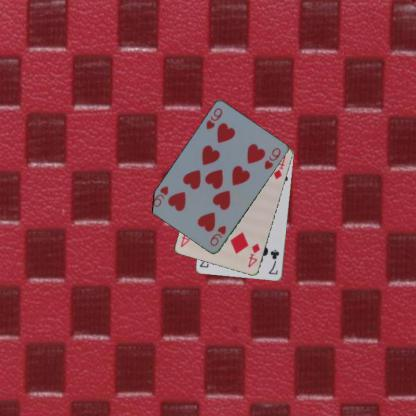4d: (246, 241, 261, 269)
7c: (266, 247, 281, 276)
9h: (207, 223, 228, 248), (204, 105, 224, 131)
